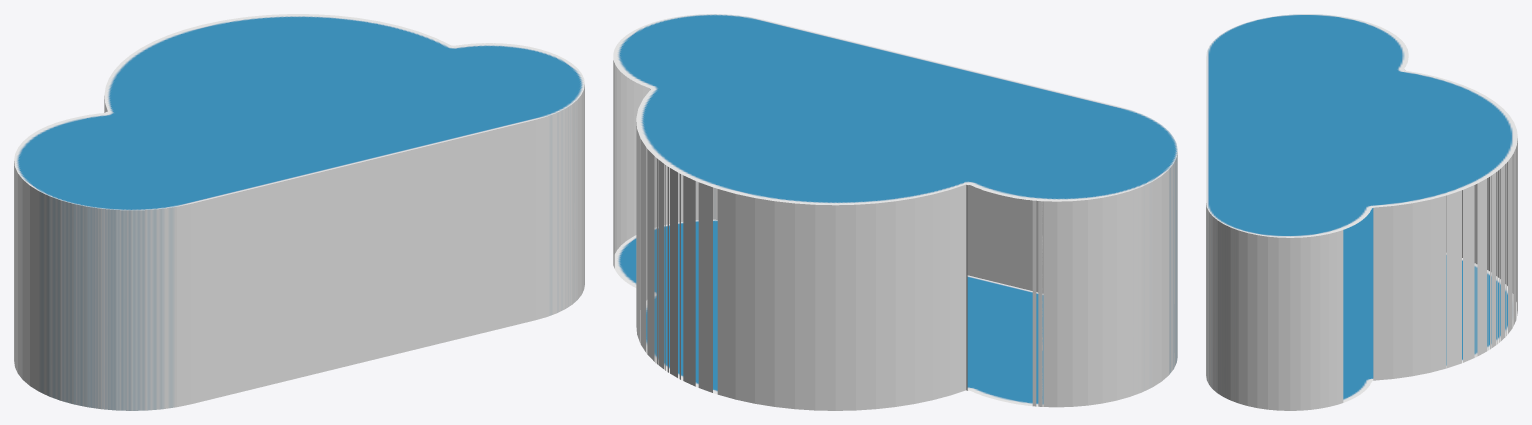
The model's file is wolk2.dae.
3 renders of one model, left to right at view 1: azimuth 30°, elevation 25°; view 2: azimuth 150°, elevation 25°; view 3: azimuth 270°, elevation 25°, orthographic. The views are drawn at different scales.
Visible parts, largest first — view 1: Curve; view 2: Curve; view 3: Curve.
Part boxes in pixels (bbox=[...]): Curve: bbox=[14, 14, 584, 410]; Curve: bbox=[613, 14, 1177, 410]; Curve: bbox=[1206, 14, 1517, 410].
Size of the model in its own units: 0.2464 by 0.145 by 0.0888.
1 material, 1 textured.
